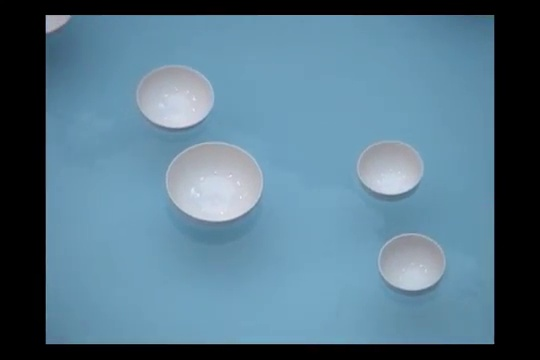bowl: (166, 142, 264, 227), (137, 65, 214, 134), (356, 139, 424, 202), (378, 233, 446, 295), (46, 15, 70, 37)
